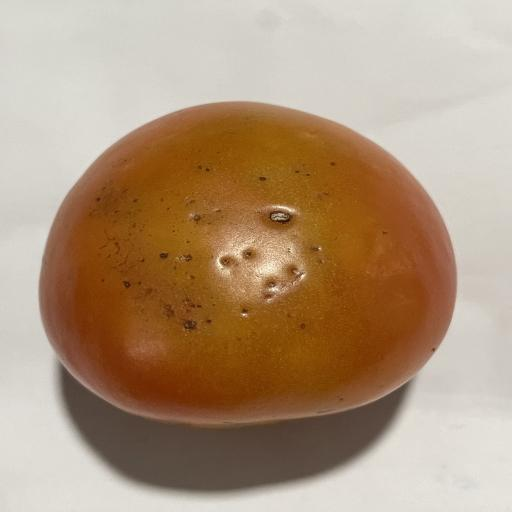unripe: (40, 102, 456, 428)
